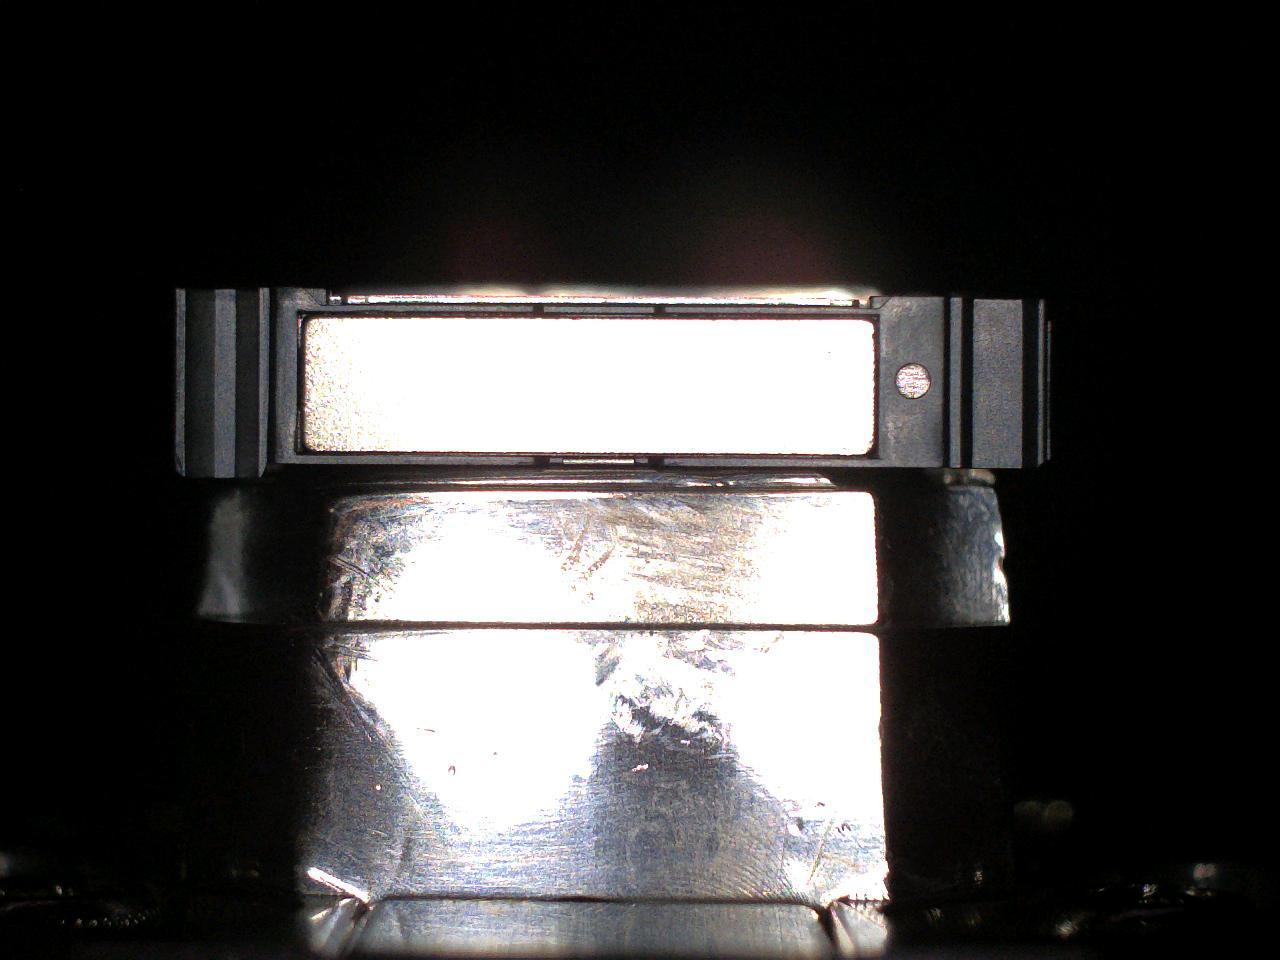frame: (174, 289, 1053, 478)
gap: (296, 309, 535, 318), (303, 450, 536, 457), (664, 453, 878, 459), (666, 314, 879, 320), (545, 314, 656, 320), (549, 453, 648, 459)
magnetic: (301, 318, 875, 457)
